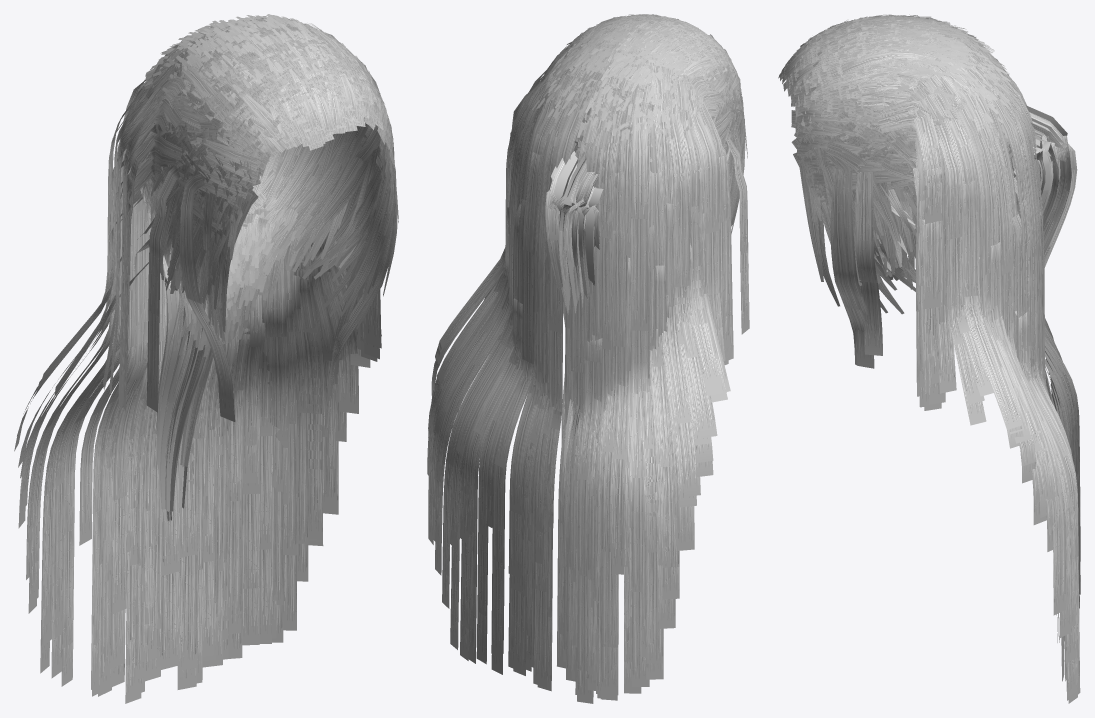
File: NC_Head_Female_Cards3.fbx
The picture shows the model from 3 angles, left to right: view 1: azimuth 30°, elevation 25°; view 2: azimuth 150°, elevation 25°; view 3: azimuth 270°, elevation 25°; orthographic projection. The views are drawn at different scales.
Visible parts, largest first — view 1: Hair_LongStraight_Cards_2, Hair_LongStraight_Cards, Hair_Ponytail_Cards, Hair_Ponytail_CapCards, Hair_Ponytail_Cards_2; view 2: Hair_LongStraight_Cards_2, Hair_Ponytail_Cards, Hair_LongStraight_Cards, Hair_Ponytail_CapCards; view 3: Hair_LongStraight_Cards_2, Hair_LongStraight_Cards, Hair_Ponytail_Cards, Hair_Ponytail_Cards_2.
Part boxes in pixels (<box>): Hair_LongStraight_Cards_2: <box>14,18,396,703</box>; Hair_LongStraight_Cards: <box>137,14,398,356</box>; Hair_Ponytail_Cards: <box>141,16,394,520</box>; Hair_Ponytail_CapCards: <box>144,188,268,520</box>; Hair_Ponytail_Cards_2: <box>159,289,212,511</box>; Hair_LongStraight_Cards_2: <box>427,14,749,703</box>; Hair_Ponytail_Cards: <box>542,14,744,487</box>; Hair_LongStraight_Cards: <box>528,14,745,233</box>; Hair_Ponytail_CapCards: <box>551,212,599,480</box>; Hair_LongStraight_Cards_2: <box>780,15,1080,703</box>; Hair_LongStraight_Cards: <box>779,14,1021,314</box>; Hair_Ponytail_Cards: <box>778,14,1077,399</box>; Hair_Ponytail_Cards_2: <box>1015,123,1060,253</box>.
Size of the model in its own units: 0.9669 by 1.93 by 0.8178.
Materials: 1 (1 with a texture image).
